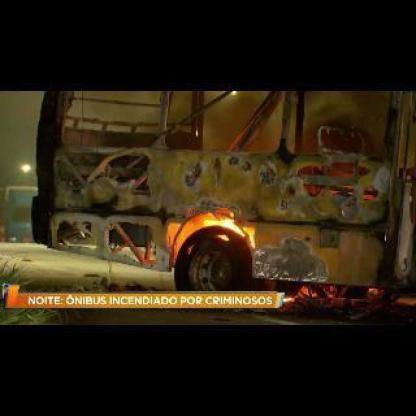fire: (202, 212, 254, 240)
